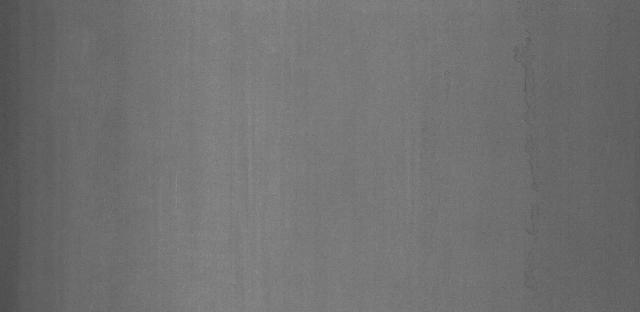silk_spot: (507, 28, 580, 303)
